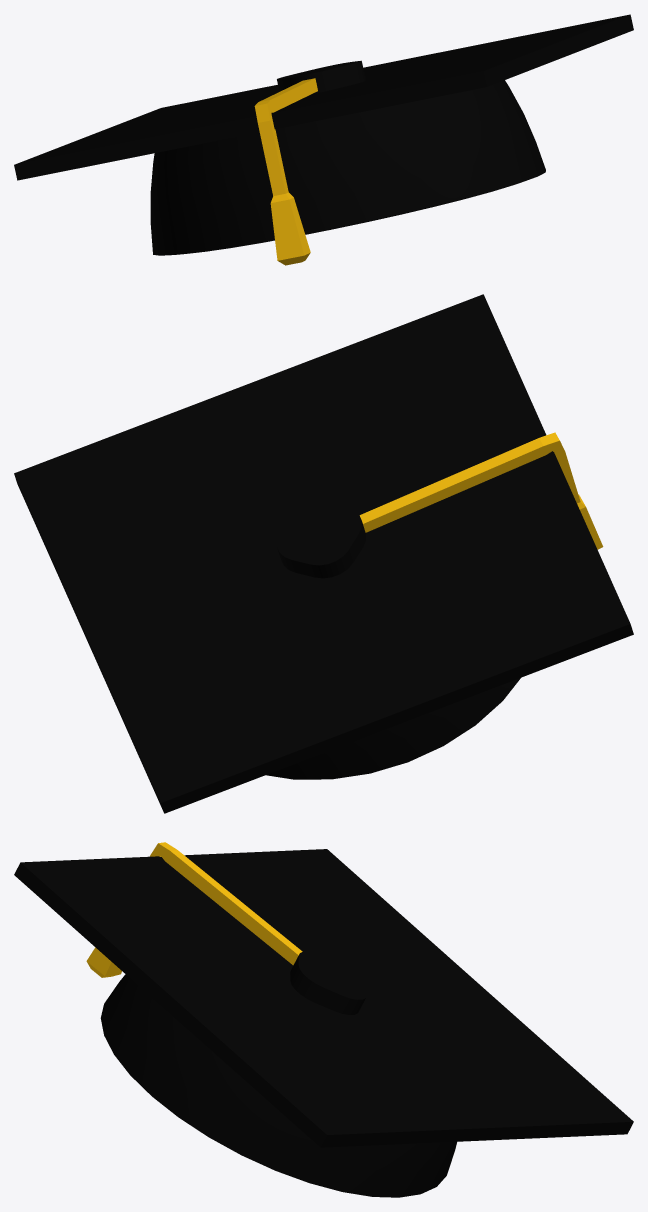
File: graduation_cap.gltf
The picture shows the model from 3 angles, top to bottom: view 1: azimuth 30°, elevation 25°; view 2: azimuth 150°, elevation 25°; view 3: azimuth 270°, elevation 25°; orthographic projection. The views are drawn at different scales.
Visible parts, largest first — view 1: Circle.1813; view 2: Circle.1813; view 3: Circle.1813.
Part boxes in pixels (x1,y1,x2,y2): Circle.1813: (14, 14, 633, 265); Circle.1813: (14, 294, 633, 813); Circle.1813: (14, 842, 633, 1197).
Size of the model in its own units: 2.34 by 1.14 by 2.14.
Materials: 1 (1 with a texture image).
